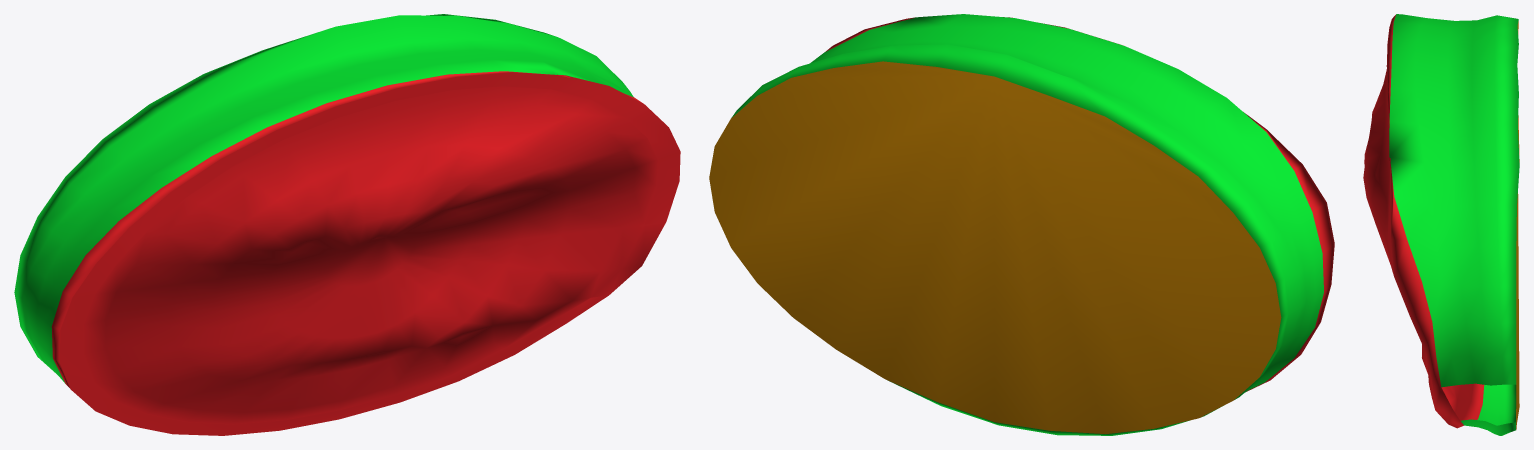
The model's file is casa12.fbx.
The picture shows the model from 3 angles, left to right: view 1: azimuth 30°, elevation 25°; view 2: azimuth 150°, elevation 25°; view 3: azimuth 270°, elevation 25°; orthographic projection. The views are drawn at different scales.
Parts seen in each view (by area): view 1: Cylinder; view 2: Cylinder; view 3: Cylinder.
Part boxes in pixels (box(x1,y1,x2,y2)): Cylinder: box(14, 14, 680, 435); Cylinder: box(709, 14, 1334, 435); Cylinder: box(1363, 14, 1519, 435).
Size of the model in its own units: 13.7 by 8.24 by 3.42.
